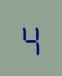four: (19, 20, 41, 55)
